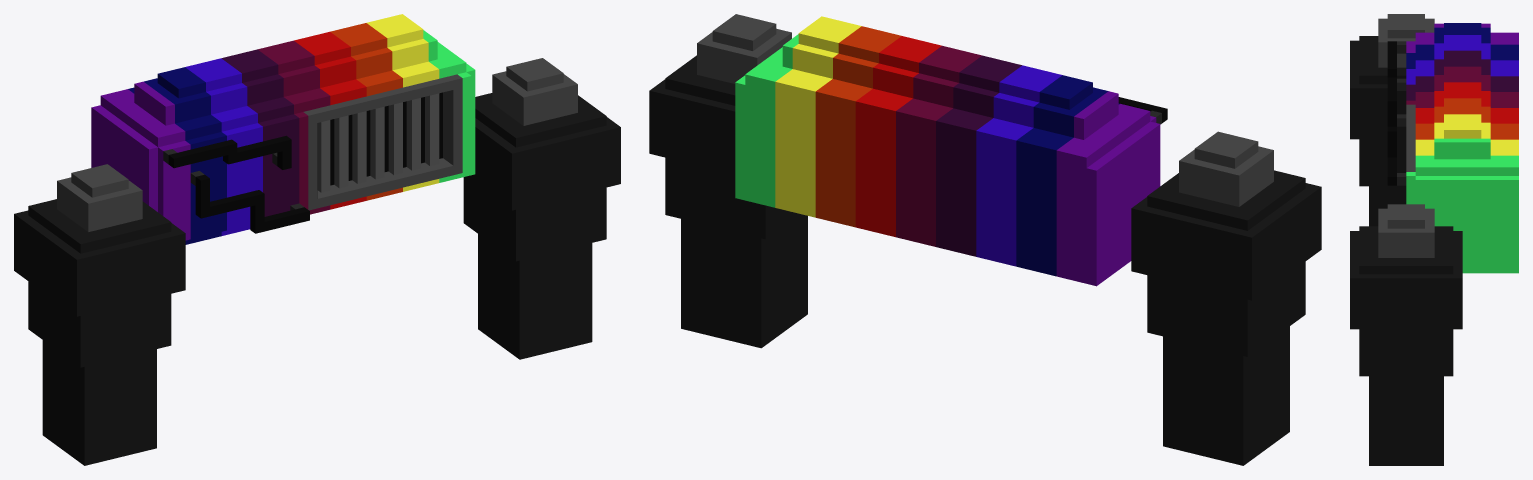
Rendered from RainbowJetPack.obj.
The picture shows the model from 3 angles, left to right: view 1: azimuth 30°, elevation 25°; view 2: azimuth 150°, elevation 25°; view 3: azimuth 270°, elevation 25°; orthographic projection. The views are drawn at different scales.
Size of the model in its own units: 6 by 3.3 by 1.8.
Materials: 1 (1 with a texture image).
